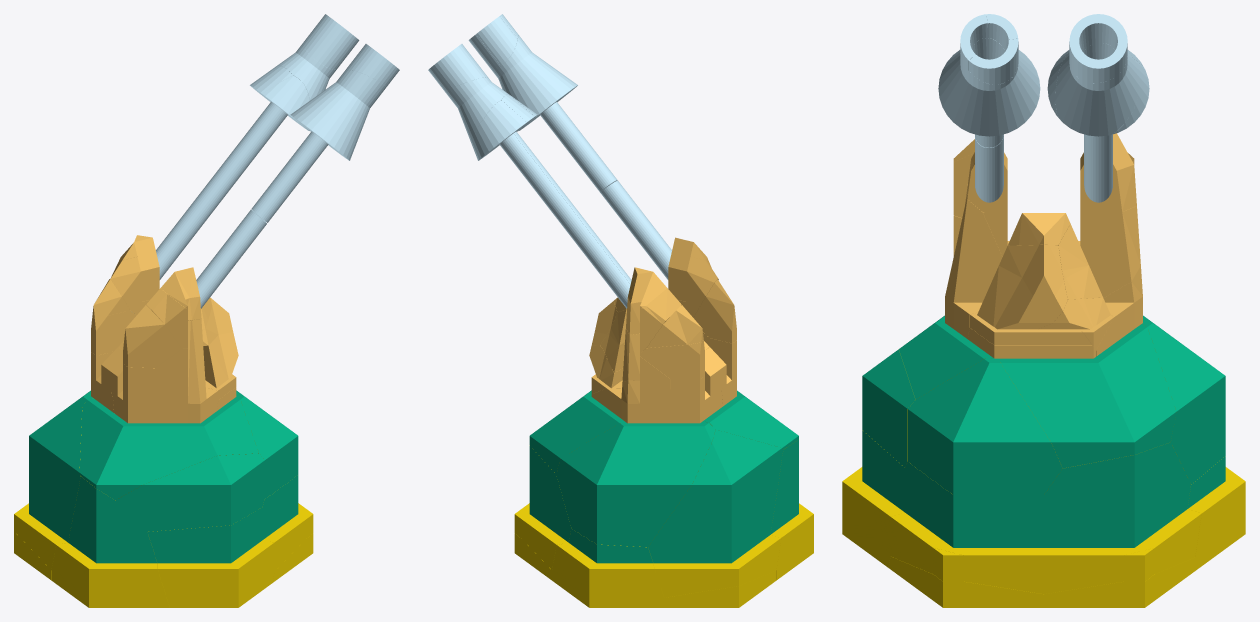
File: SeaCannonDebris.dae
3 renders of one model, left to right at view 1: azimuth 30°, elevation 25°; view 2: azimuth 150°, elevation 25°; view 3: azimuth 270°, elevation 25°, orthographic. The views are drawn at different scales.
Parts seen in each view (by area): view 1: Cylinder_cell, Cylinder_cell.012, Cylinder_cell.011, Cylinder_cell.003, Cylinder_cell.007, Cylinder.001_cell.003, Cylinder.003_cell.002, Cube.007_cell, Cylinder_cell.005, Cylinder_cell.014, Cube.008_cell, Cube.000_cell.005 (+16 smaller); view 2: Cylinder_cell.007, Cylinder_cell.001, Cylinder_cell.006, Cylinder.001_cell.003, Cylinder_cell.008, Cylinder_cell.012, Cylinder_cell.015, Cube.007_cell.004, Cylinder.003_cell.001, Cylinder.003_cell.003, Cylinder_cell, Cylinder.003_cell (+22 smaller); view 3: Cylinder_cell.008, Cylinder_cell.015, Cylinder_cell.005, Cylinder_cell.014, Cylinder_cell.001, Cylinder.001_cell.003, Cube.000_cell.005, Cylinder_cell.011, Cube.007_cell.001, Cylinder.003_cell, Cube.007_cell, Cylinder_cell.006 (+21 smaller).
Part boxes in pixels (x1,y1,x2,y2): Cylinder_cell: [79, 397, 258, 499]; Cylinder_cell.012: [51, 476, 169, 607]; Cylinder_cell.011: [147, 507, 274, 607]; Cylinder_cell.003: [116, 453, 264, 531]; Cylinder_cell.007: [14, 407, 82, 569]; Cylinder.001_cell.003: [251, 70, 386, 222]; Cylinder.003_cell.002: [156, 66, 308, 279]; Cube.007_cell: [112, 319, 218, 423]; Cylinder_cell.005: [236, 393, 298, 498]; Cylinder_cell.014: [262, 475, 305, 571]; Cube.008_cell: [123, 305, 181, 367]; Cube.000_cell.005: [202, 301, 238, 388]; Cylinder_cell.007: [648, 429, 783, 597]; Cylinder_cell.001: [556, 421, 715, 547]; Cylinder_cell.006: [552, 528, 664, 607]; Cylinder.001_cell.003: [494, 35, 617, 192]; Cylinder_cell.008: [522, 445, 571, 569]; Cylinder_cell.012: [770, 439, 813, 580]; Cylinder_cell.015: [529, 390, 626, 474]; Cube.007_cell.004: [593, 380, 722, 423]; Cylinder.003_cell.001: [485, 100, 630, 295]; Cylinder.003_cell.003: [473, 117, 627, 308]; Cylinder_cell: [703, 391, 798, 449]; Cylinder.003_cell: [445, 77, 508, 155]; Cylinder_cell.008: [1044, 442, 1201, 594]; Cylinder_cell.015: [996, 324, 1176, 468]; Cylinder_cell.005: [908, 358, 1062, 494]; Cylinder_cell.014: [890, 462, 1043, 593]; Cylinder_cell.001: [1142, 316, 1225, 484]; Cylinder.001_cell.003: [938, 38, 1040, 147]; Cube.000_cell.005: [977, 244, 1067, 329]; Cylinder_cell.011: [842, 430, 904, 567]; Cube.007_cell.001: [982, 206, 1140, 349]; Cylinder.003_cell: [1055, 43, 1139, 136]; Cube.007_cell: [945, 185, 1002, 338]; Cylinder_cell.006: [1187, 456, 1245, 570].
Size of the model in its own units: 10.84 by 8.66 by 15.21.
